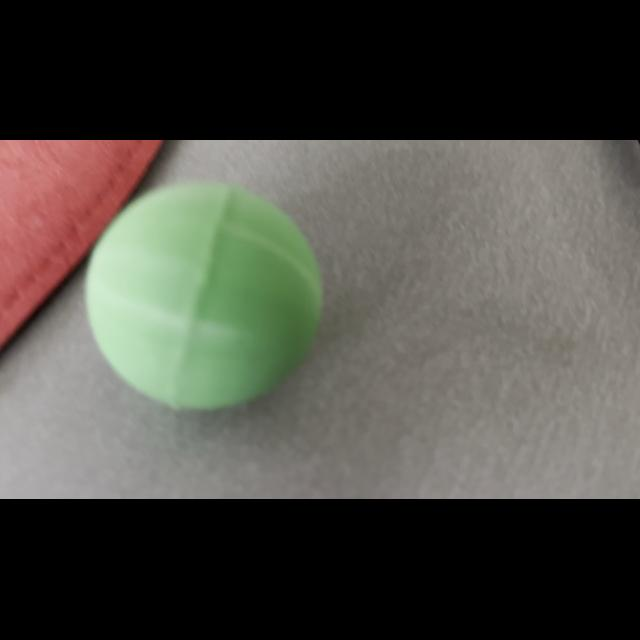objects: (75, 172, 338, 424)
